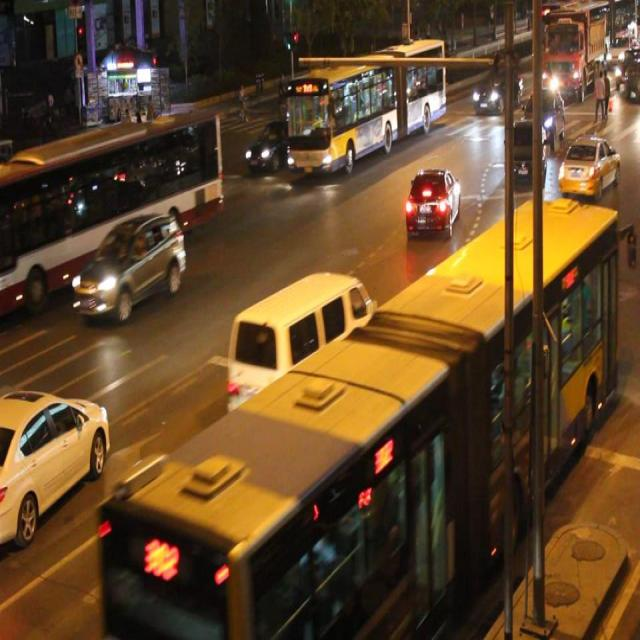car: (1, 387, 110, 536), (71, 210, 186, 320), (404, 164, 460, 239), (557, 134, 619, 197), (503, 120, 544, 186), (246, 118, 298, 170)
truck: (227, 270, 373, 417)
van: (100, 200, 614, 640), (1, 111, 220, 304), (286, 40, 444, 166)
